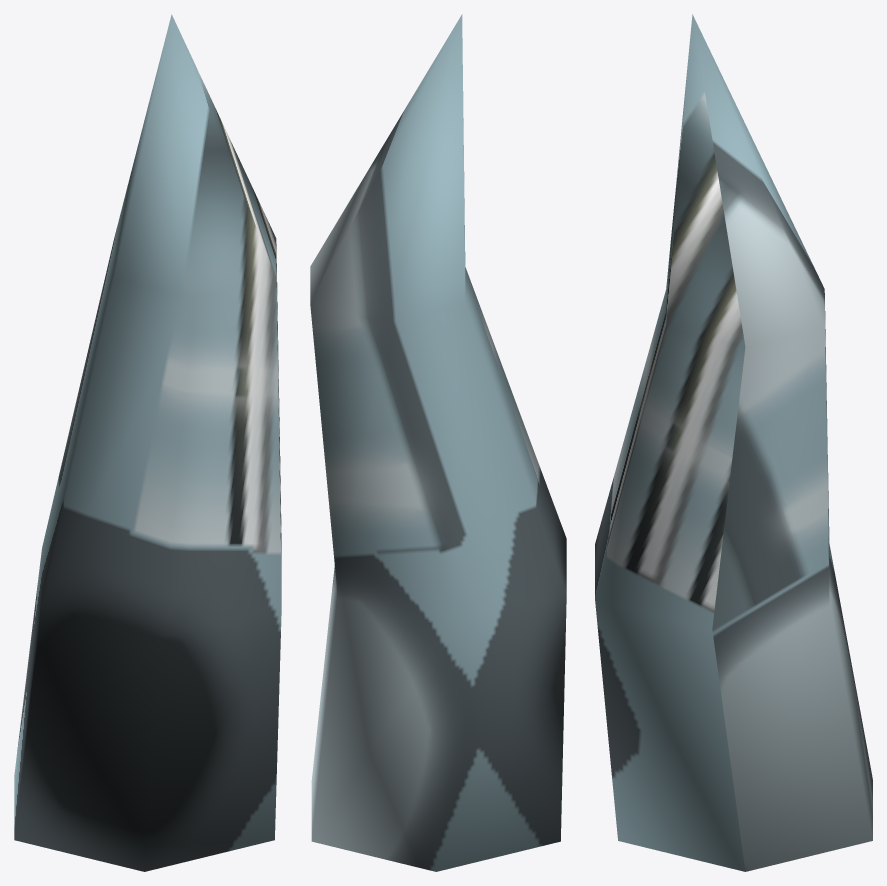
The model's file is acc_miscCone.FBX.
3 views of the same model, side by side, from view 1: azimuth 30°, elevation 25°; view 2: azimuth 150°, elevation 25°; view 3: azimuth 270°, elevation 25° (orthographic). The views are drawn at different scales.
Parts seen in each view (by area): view 1: acc_miscCone; view 2: acc_miscCone; view 3: acc_miscCone.
Boxes of the visible parts, <box> form: acc_miscCone: <box>14,14,281,871</box>; acc_miscCone: <box>310,14,566,871</box>; acc_miscCone: <box>595,14,872,871</box>.
Bounding box in the file's own units: 21.45 × 63.67 × 20.14.
